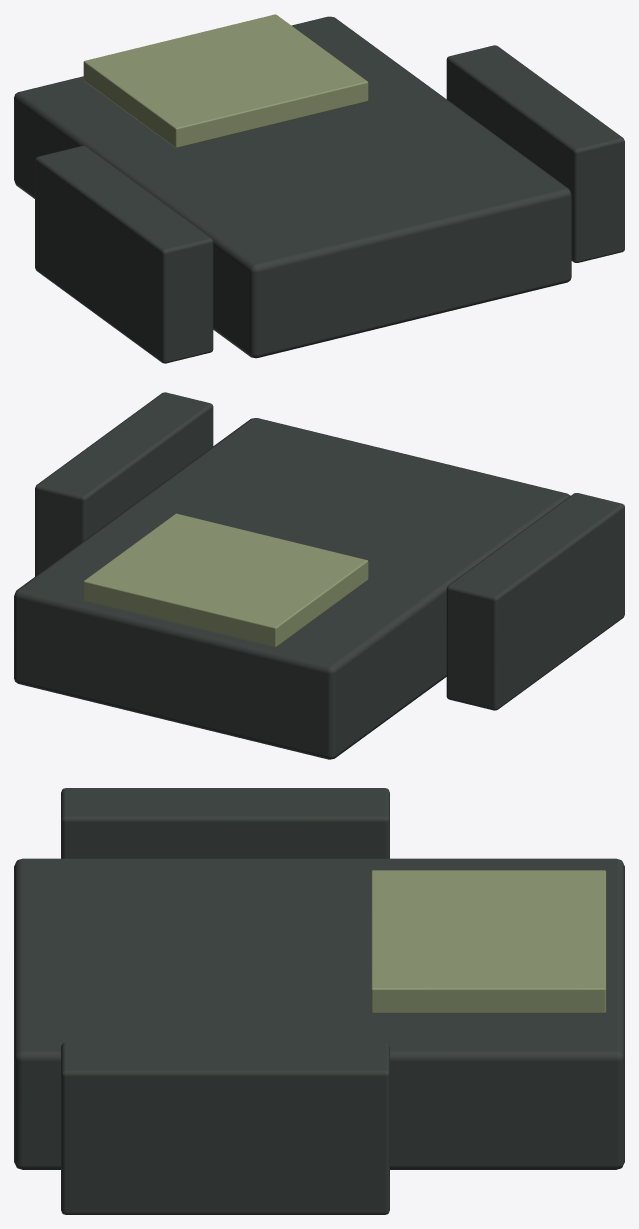
File: backpacks-and-expedition-storage-quick-release-buckle-54f0fdd6__21104.glb
The picture shows the model from 3 angles, top to bottom: view 1: azimuth 30°, elevation 25°; view 2: azimuth 150°, elevation 25°; view 3: azimuth 270°, elevation 25°; orthographic projection. The views are drawn at different scales.
Visible parts, largest first — view 1: quick-release-buckle; view 2: quick-release-buckle; view 3: quick-release-buckle.
Part boxes in pixels (x1,y1,x2,y2): quick-release-buckle: (14, 14, 624, 363); quick-release-buckle: (14, 392, 624, 759); quick-release-buckle: (14, 788, 624, 1214).
Bounding box in the file's own units: 0.072 × 0.017 × 0.065.
